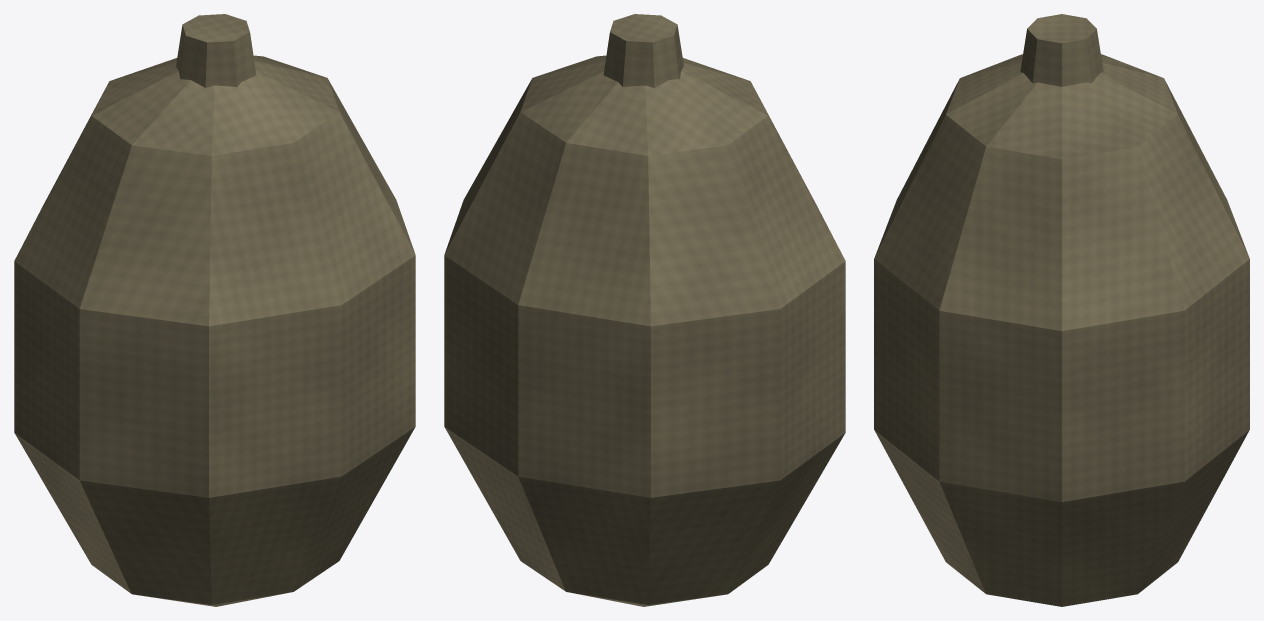
The model's file is Sack.glb.
3 views of the same model, side by side, from view 1: azimuth 30°, elevation 25°; view 2: azimuth 150°, elevation 25°; view 3: azimuth 270°, elevation 25° (orthographic).
Visible parts, largest first — view 1: Sack; view 2: Sack; view 3: Sack.
Boxes of the visible parts, x1,y1,x2,y2 form: Sack: (14, 14, 415, 606); Sack: (444, 14, 845, 606); Sack: (874, 14, 1249, 606).
Bounding box in the file's own units: 0.4612 × 0.73 × 0.4308.
Materials: 2 (2 with a texture image).
